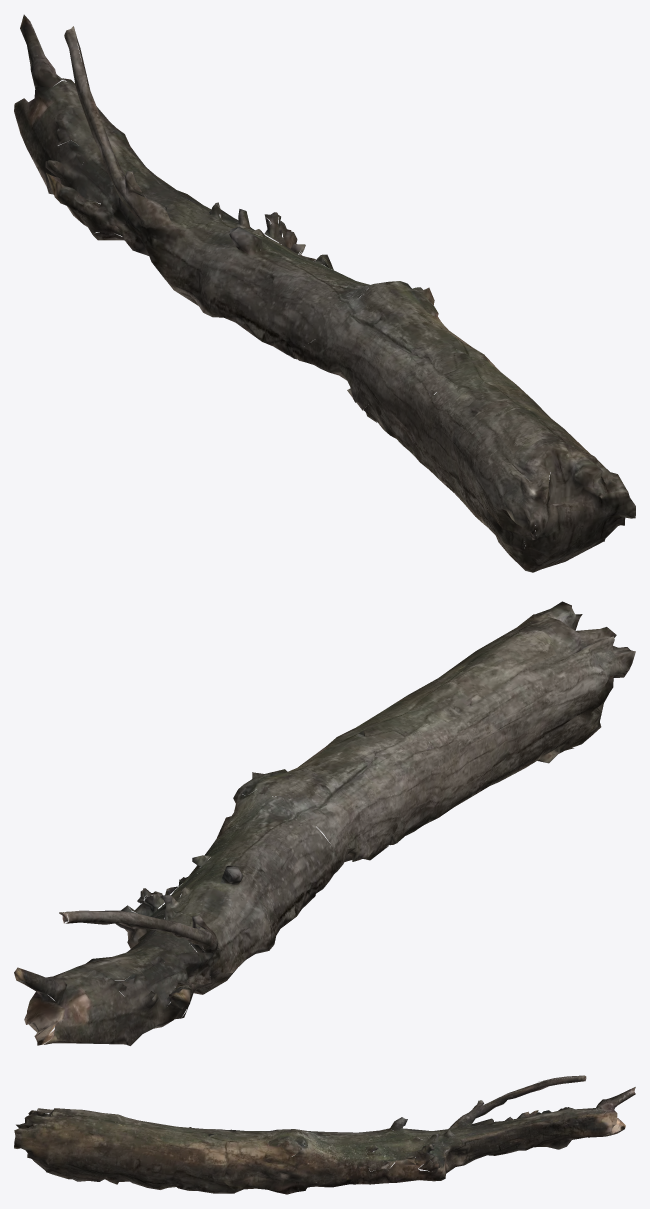
Rendered from dry-branches-medium-01-c.glb.
The picture shows the model from 3 angles, top to bottom: view 1: azimuth 30°, elevation 25°; view 2: azimuth 150°, elevation 25°; view 3: azimuth 270°, elevation 25°; orthographic projection. The views are drawn at different scales.
Visible parts, largest first — view 1: dry_branches_medium_01_c; view 2: dry_branches_medium_01_c; view 3: dry_branches_medium_01_c.
Part boxes in pixels (x1=…): dry_branches_medium_01_c: x1=14, y1=14, x2=635, y2=572; dry_branches_medium_01_c: x1=14, y1=601, x2=635, y2=1045; dry_branches_medium_01_c: x1=14, y1=1075, x2=635, y2=1194.
Size of the model in its own units: 0.1293 by 0.1432 by 0.7771.
1 material, 1 textured.
